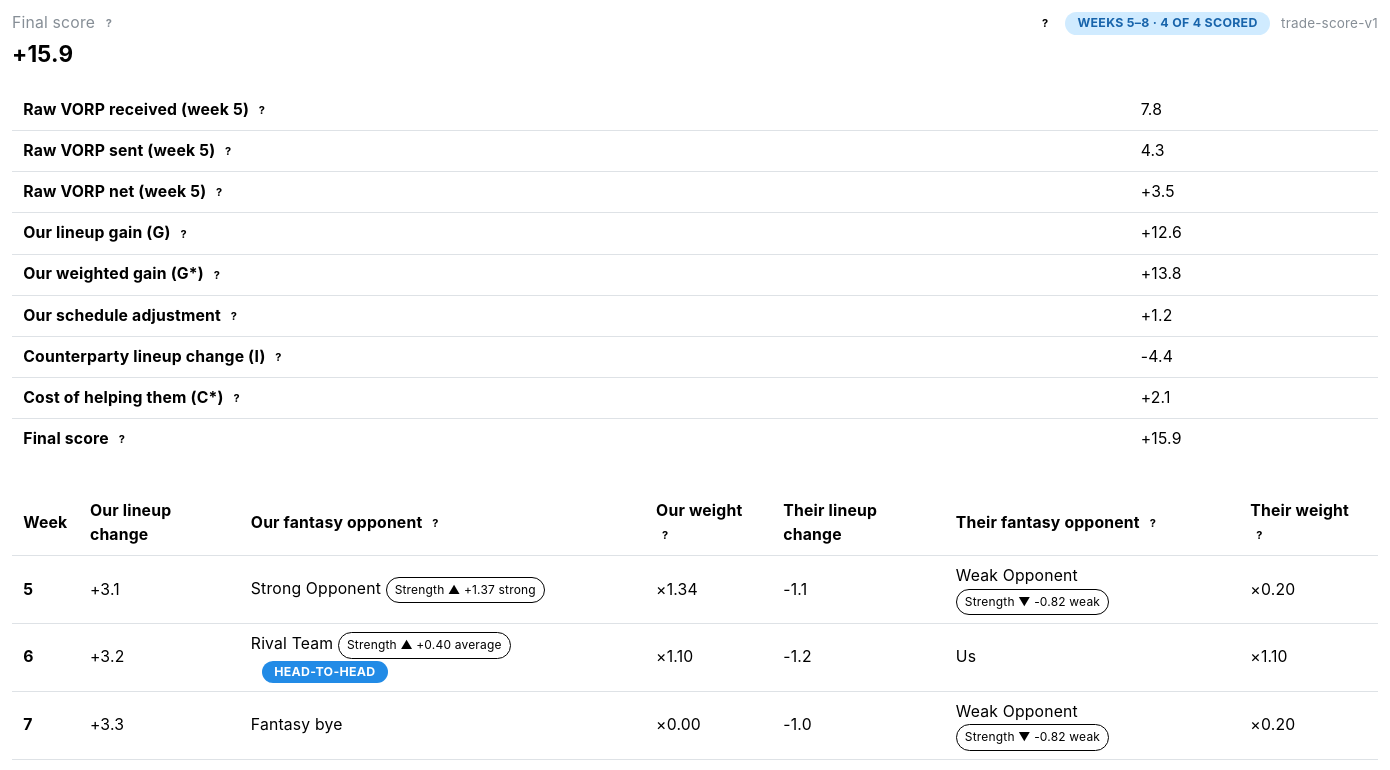
Test: uses returned weights in What is cost of helping them (c*)?
The image size is (1390, 770).
Focus the button named "What is cost of helping them (c*)?": (236, 399) 228,390 -> 246,408
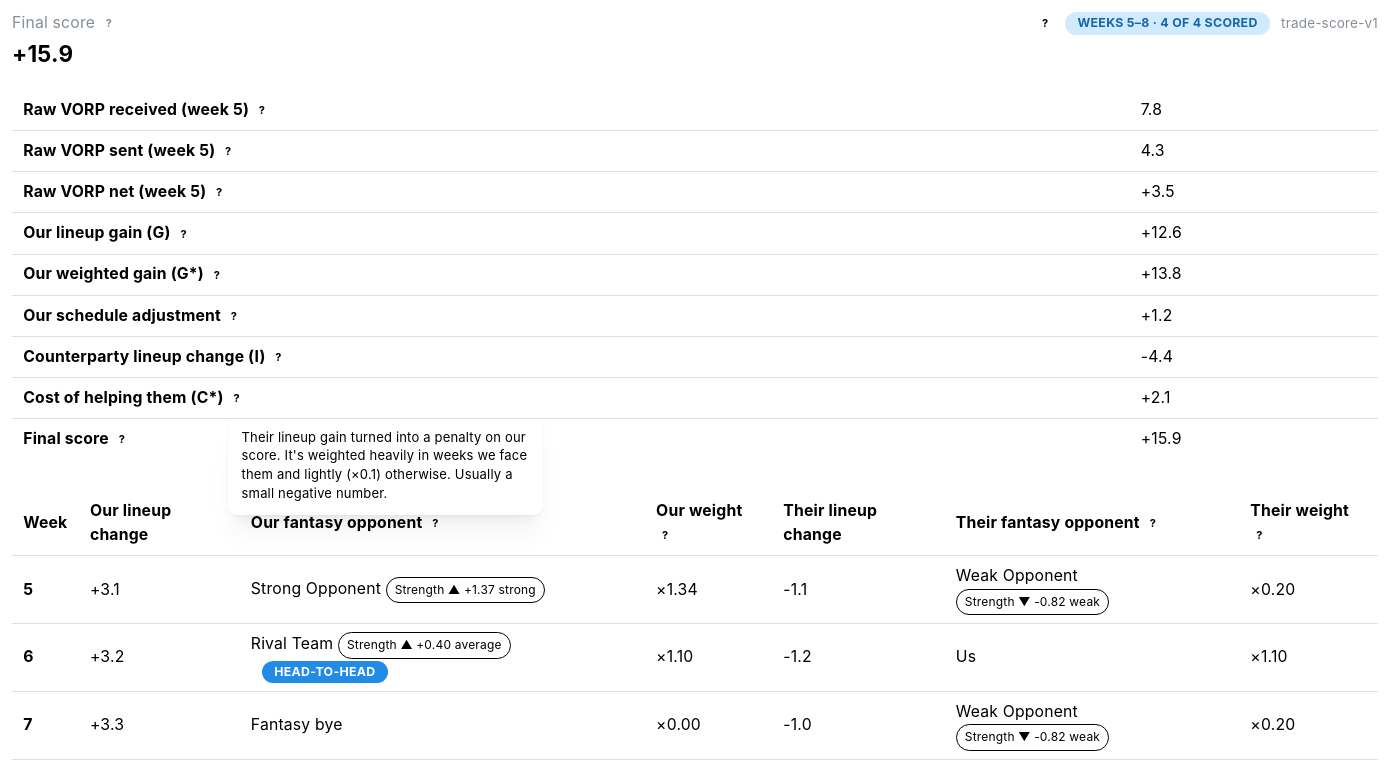
Expected: the tooltip shows "×0.1", 242,429 -> 527,501
Expected: the tooltip shows "penalty on our score", 242,429 -> 527,501
